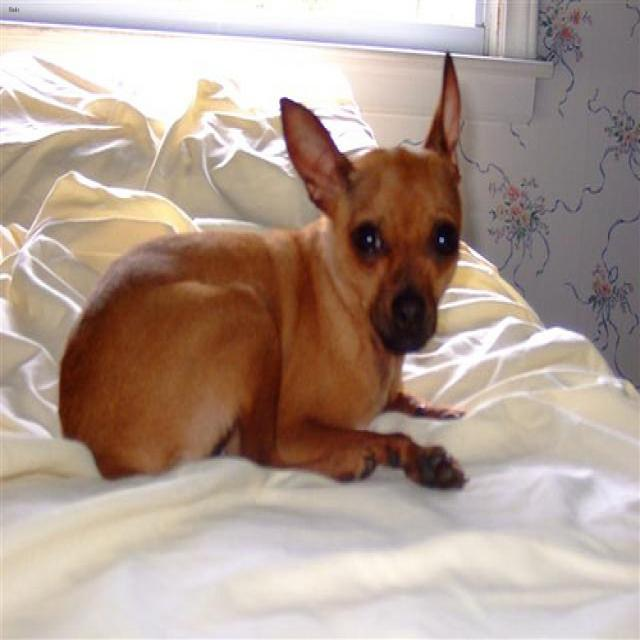dog-miniature_pinscher: (50, 41, 475, 497)
